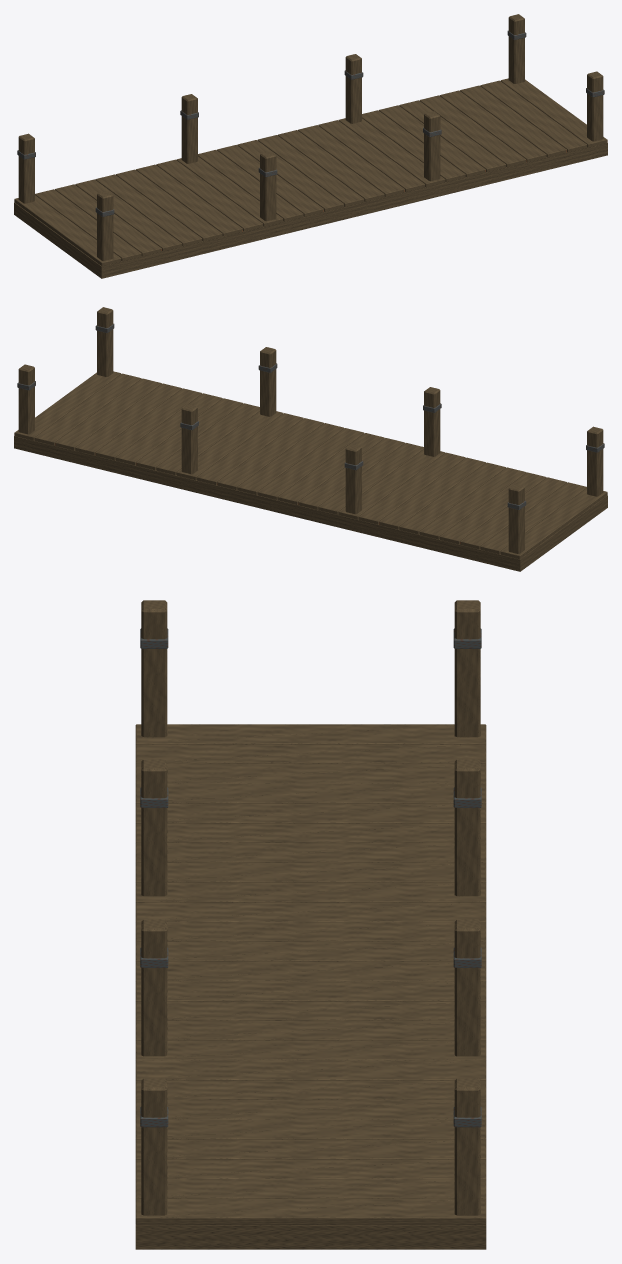
The model's file is dock.glb.
3 views of the same model, one above another, from view 1: azimuth 30°, elevation 25°; view 2: azimuth 150°, elevation 25°; view 3: azimuth 270°, elevation 25° (orthographic). The views are drawn at different scales.
Visible parts, largest first — view 1: dock; view 2: dock; view 3: dock.
Part boxes in pixels (<box>): dock: <box>14,14,607,278</box>; dock: <box>14,307,607,571</box>; dock: <box>135,600,486,1249</box>.
Bounding box in the file's own units: 10 × 1.5 × 3.
Materials: 1 (1 with a texture image).
